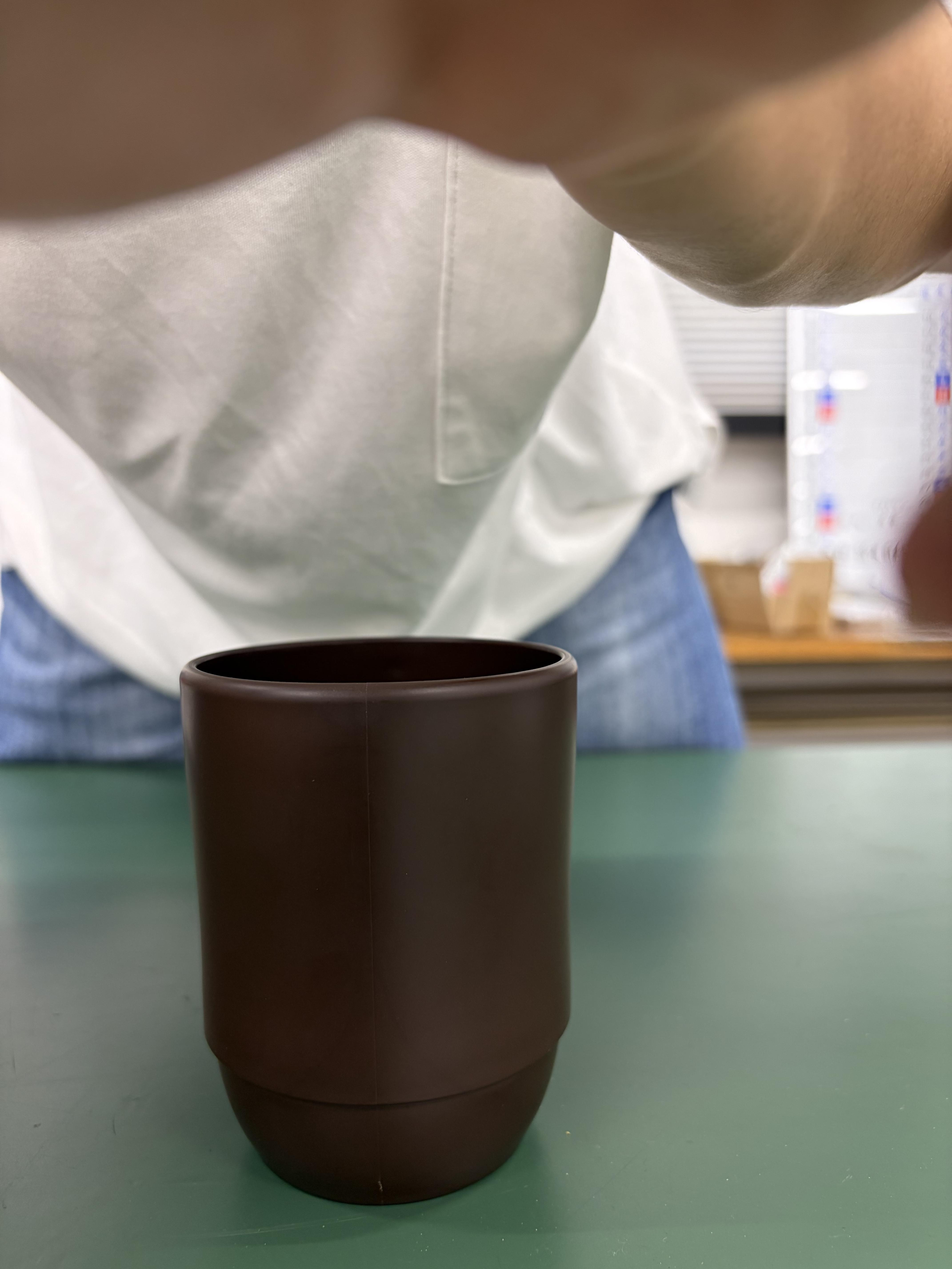mug-real100-3d100: (181, 638, 576, 1204)
